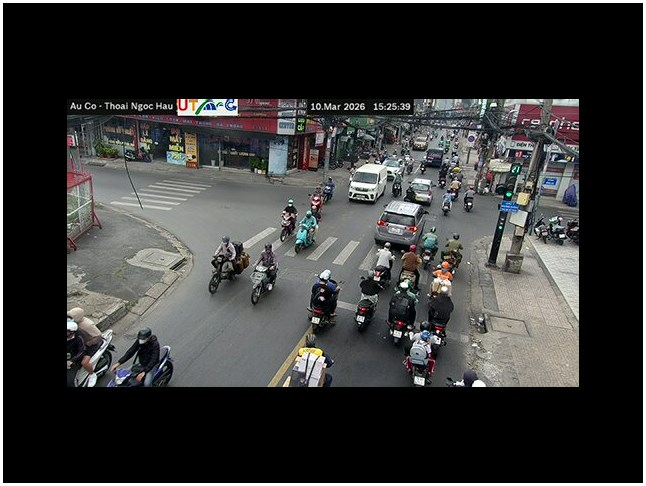car: (375, 200, 428, 249), (347, 162, 392, 203), (409, 178, 433, 205)
motorbike: (108, 343, 174, 388), (287, 343, 335, 387), (403, 335, 436, 386), (250, 263, 277, 305), (355, 295, 377, 332), (294, 219, 317, 253), (463, 188, 475, 212)
